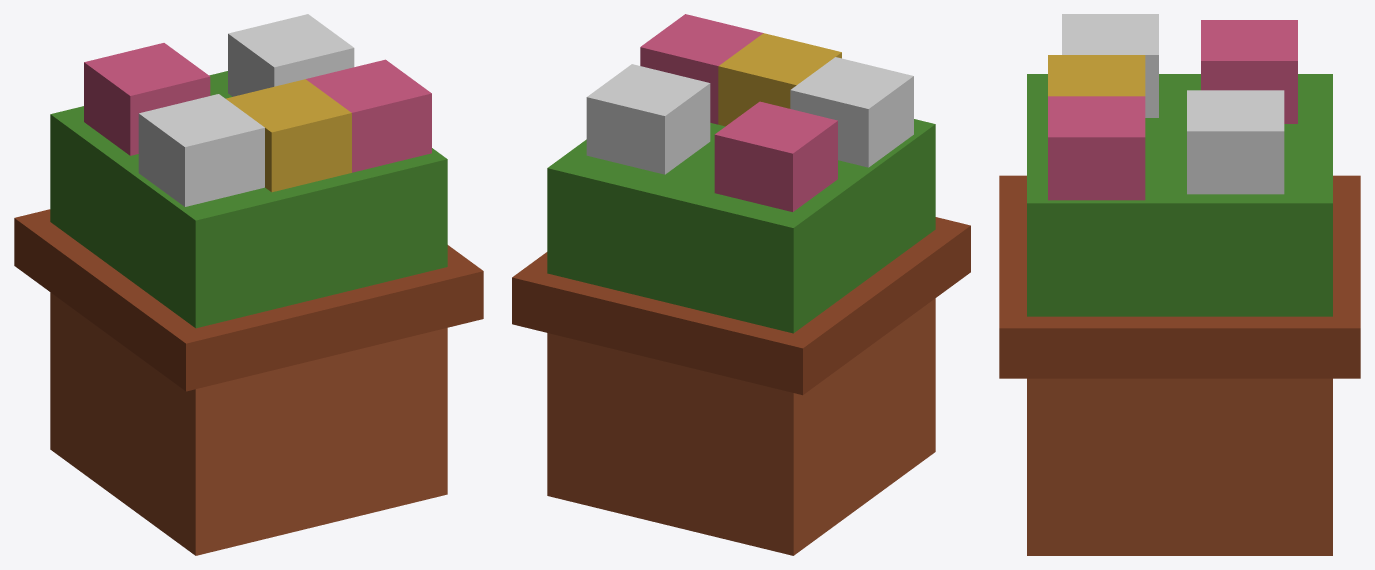
Rendered from xma-flower-pot.glb.
3 renders of one model, left to right at view 1: azimuth 30°, elevation 25°; view 2: azimuth 150°, elevation 25°; view 3: azimuth 270°, elevation 25°, orthographic. The views are drawn at different scales.
Parts seen in each view (by area): view 1: box-prop; view 2: box-prop; view 3: box-prop.
Part boxes in pixels (x1,y1,x2,y2): box-prop: (14, 14, 483, 555); box-prop: (512, 14, 970, 555); box-prop: (999, 14, 1360, 555).
Size of the model in its own units: 0.52 by 0.66 by 0.52.
